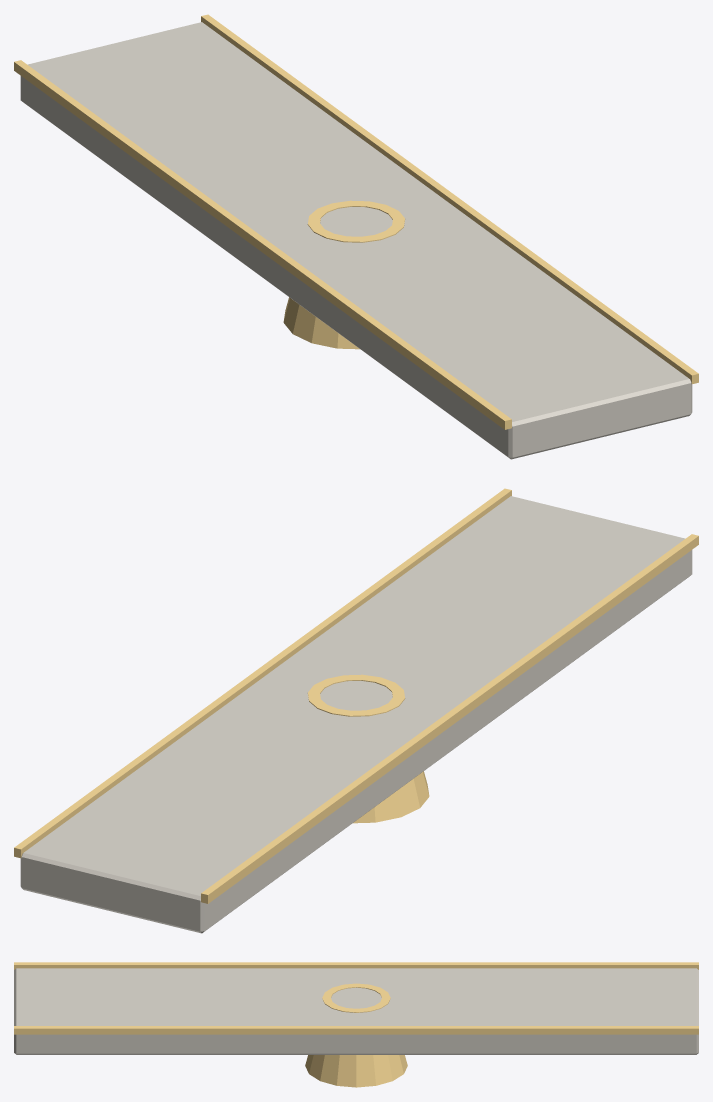
File: RotatingBridge.fbx
3 views of the same model, one above another, from view 1: azimuth 30°, elevation 25°; view 2: azimuth 150°, elevation 25°; view 3: azimuth 270°, elevation 25° (orthographic). The views are drawn at different scales.
Visible parts, largest first — view 1: RotatingBridge; view 2: RotatingBridge; view 3: RotatingBridge.
Boxes of the visible parts, x1,y1,x2,y2 form: RotatingBridge: (14, 14, 698, 459); RotatingBridge: (14, 488, 698, 933); RotatingBridge: (14, 962, 698, 1087).
Bounding box in the file's own units: 2.74 × 1.36 × 12.
